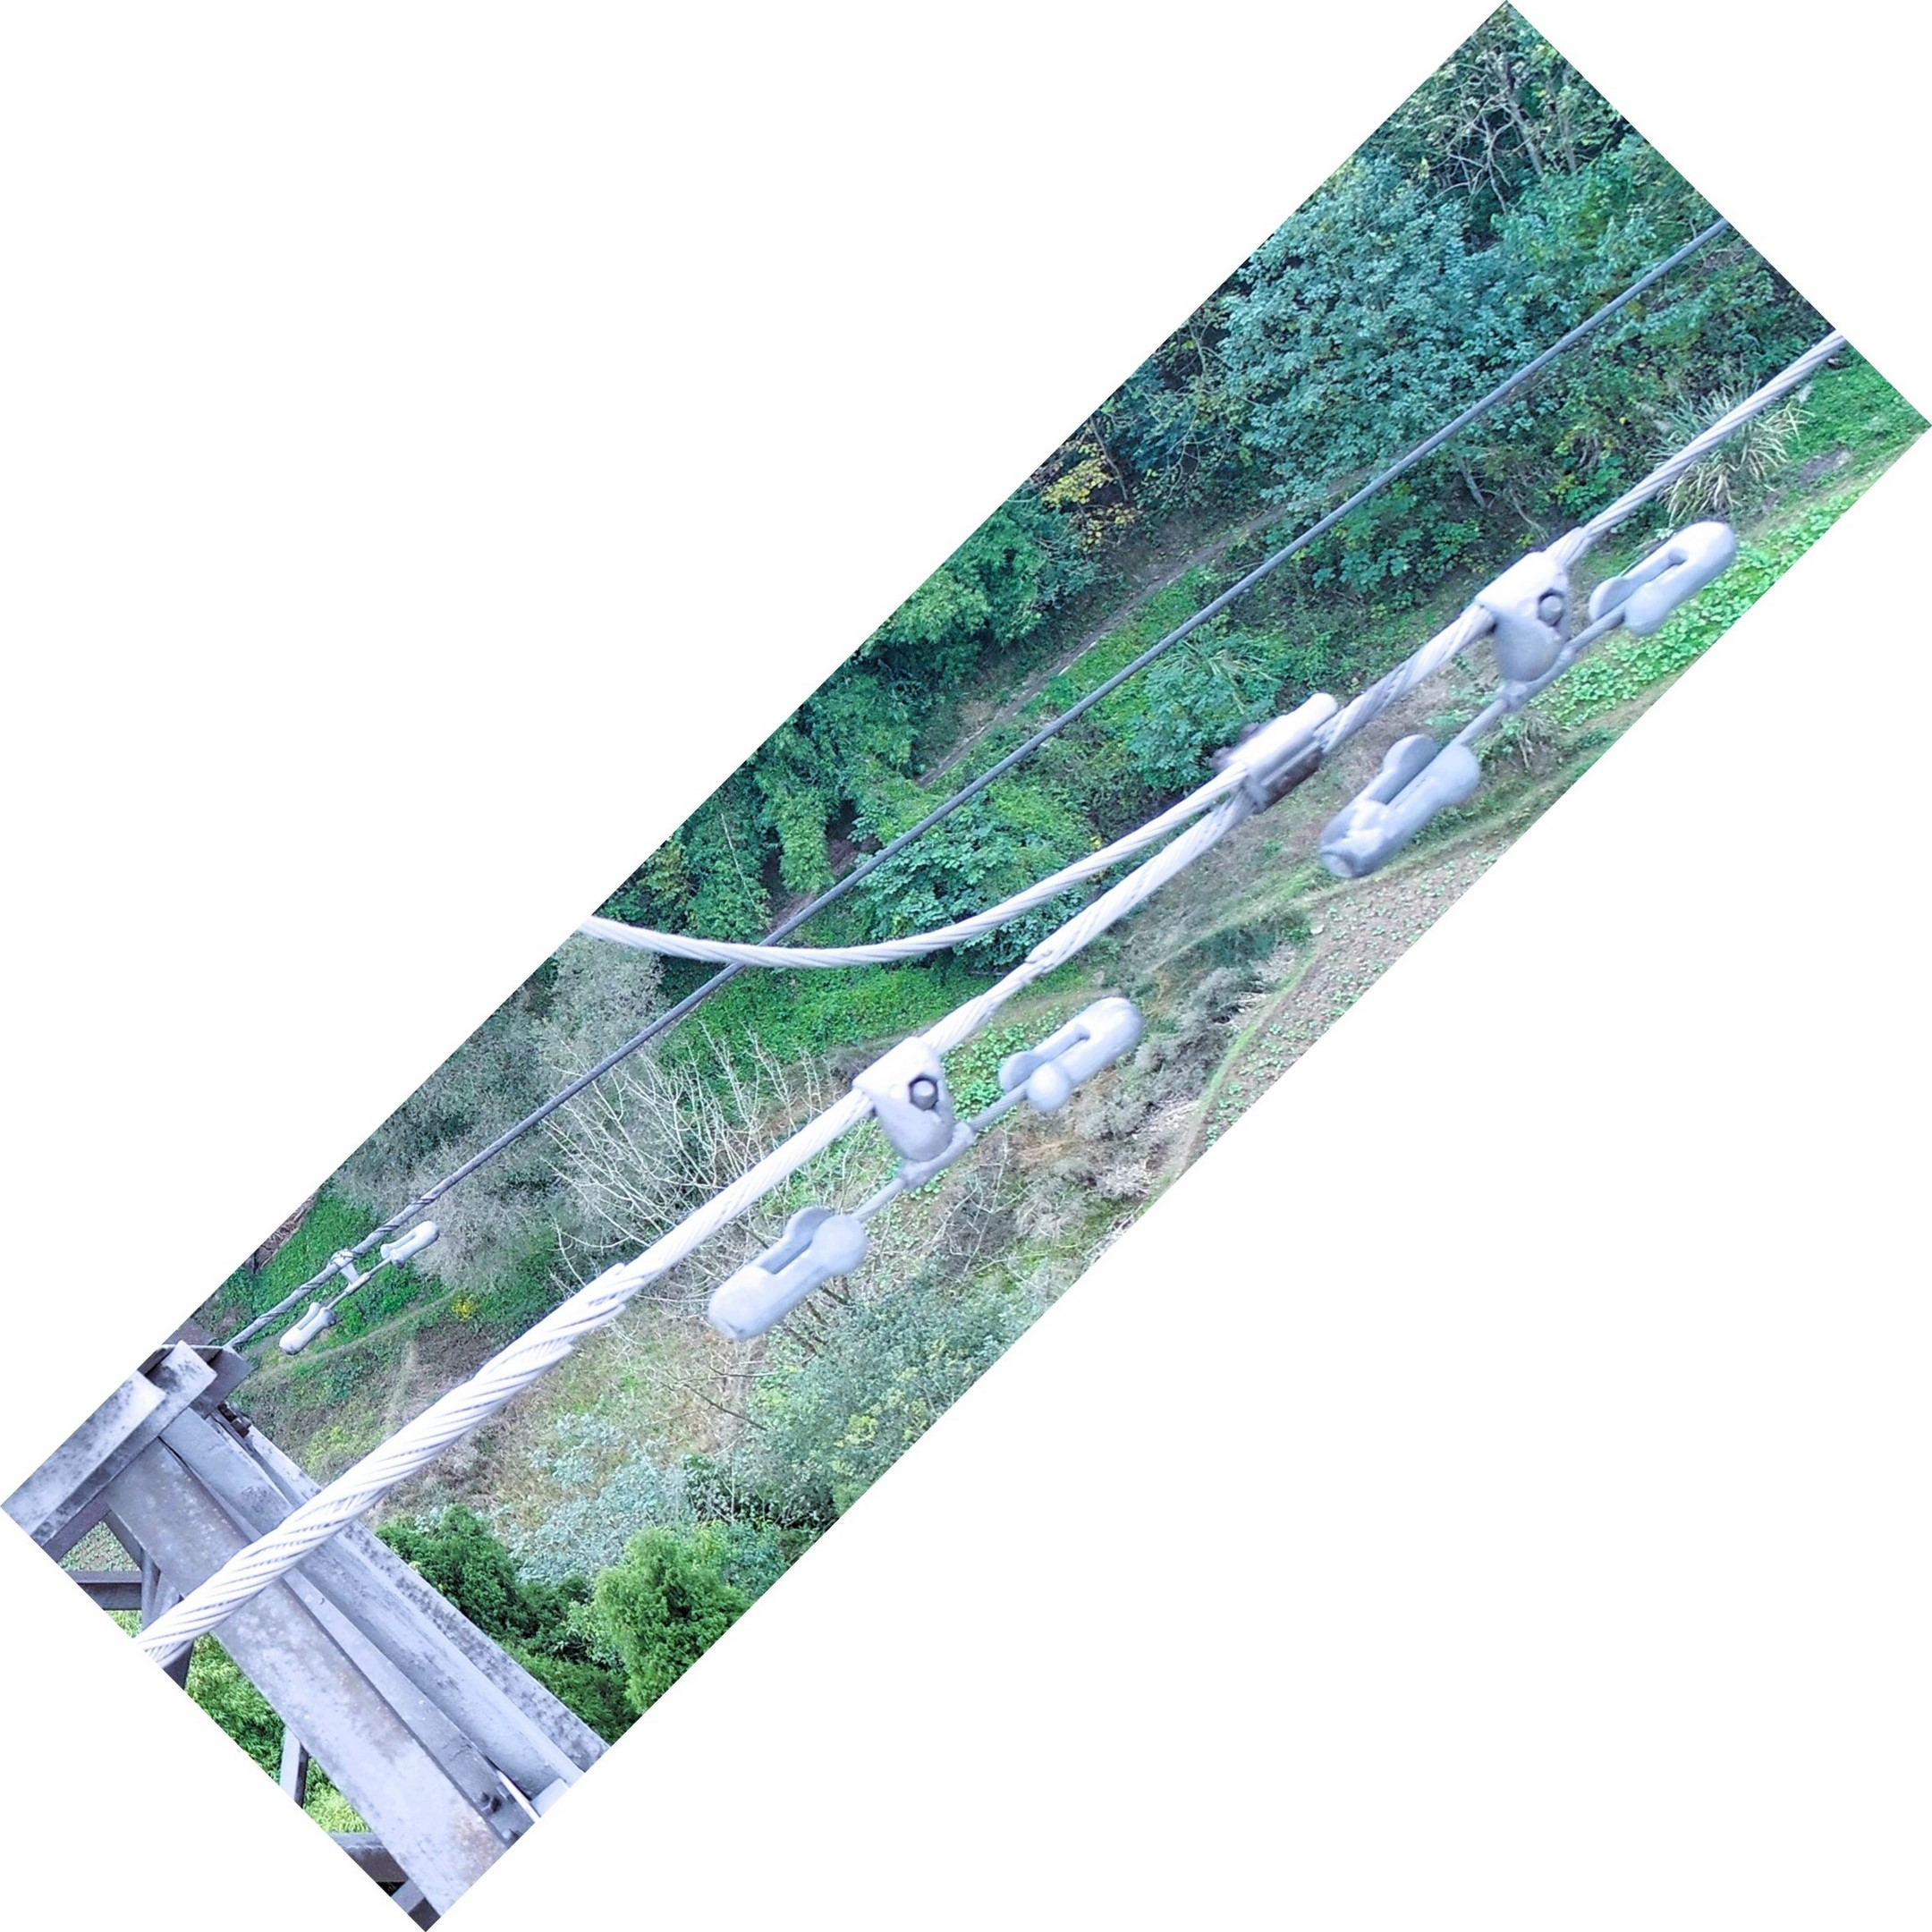Shockproof hammer: (692, 973, 1178, 1384), (1302, 494, 1748, 899)
